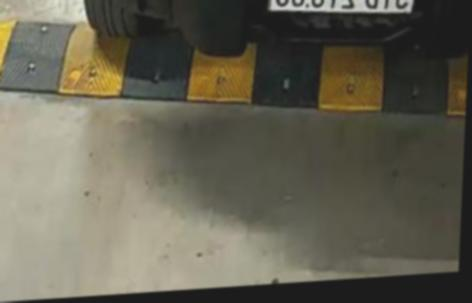License_Plate: (264, 0, 422, 18)
